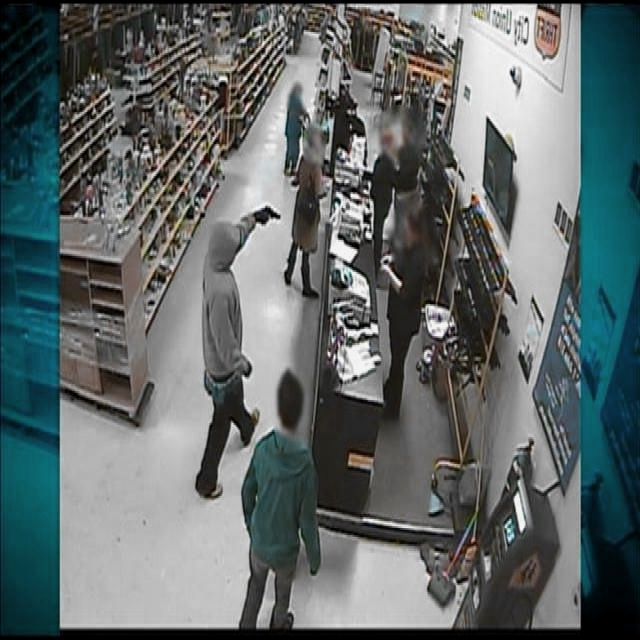gun: (256, 196, 286, 238)
